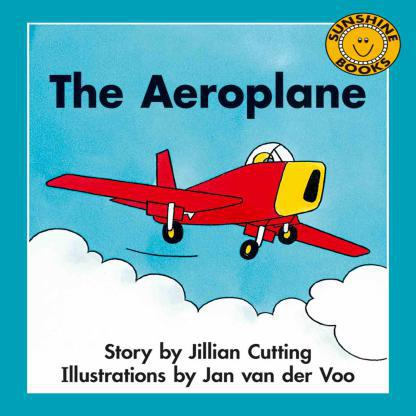CIV_Plane: (37, 140, 373, 261)
